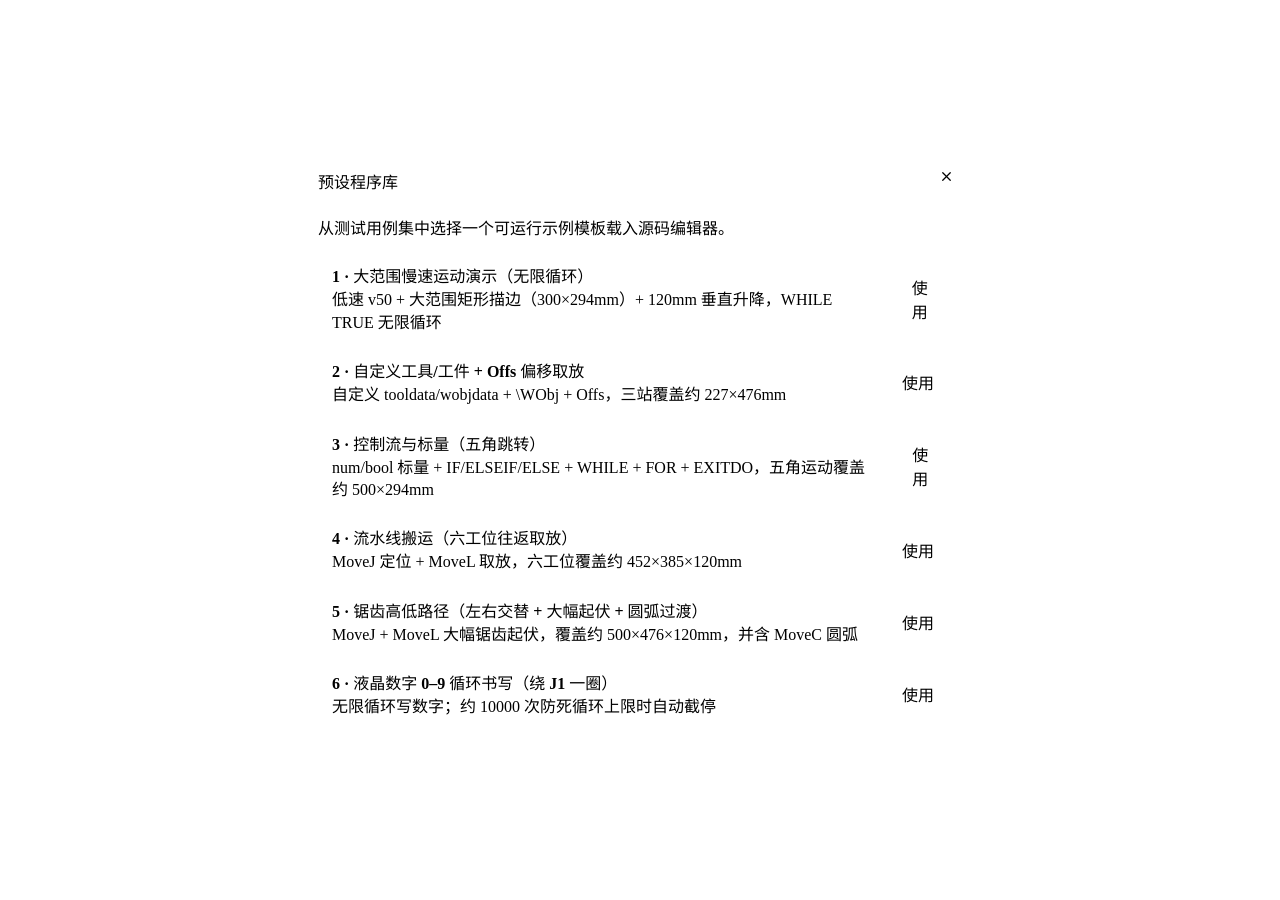
Scenario: PresetLibraryDialog 全屏预设库 › 取消确认不触发 load，库保持打开，确认框关闭
Click the button "使用" in the row of "1 · 大范围慢速运动演示（无限循环）".
click(920, 299)  # box [890, 268, 950, 330]
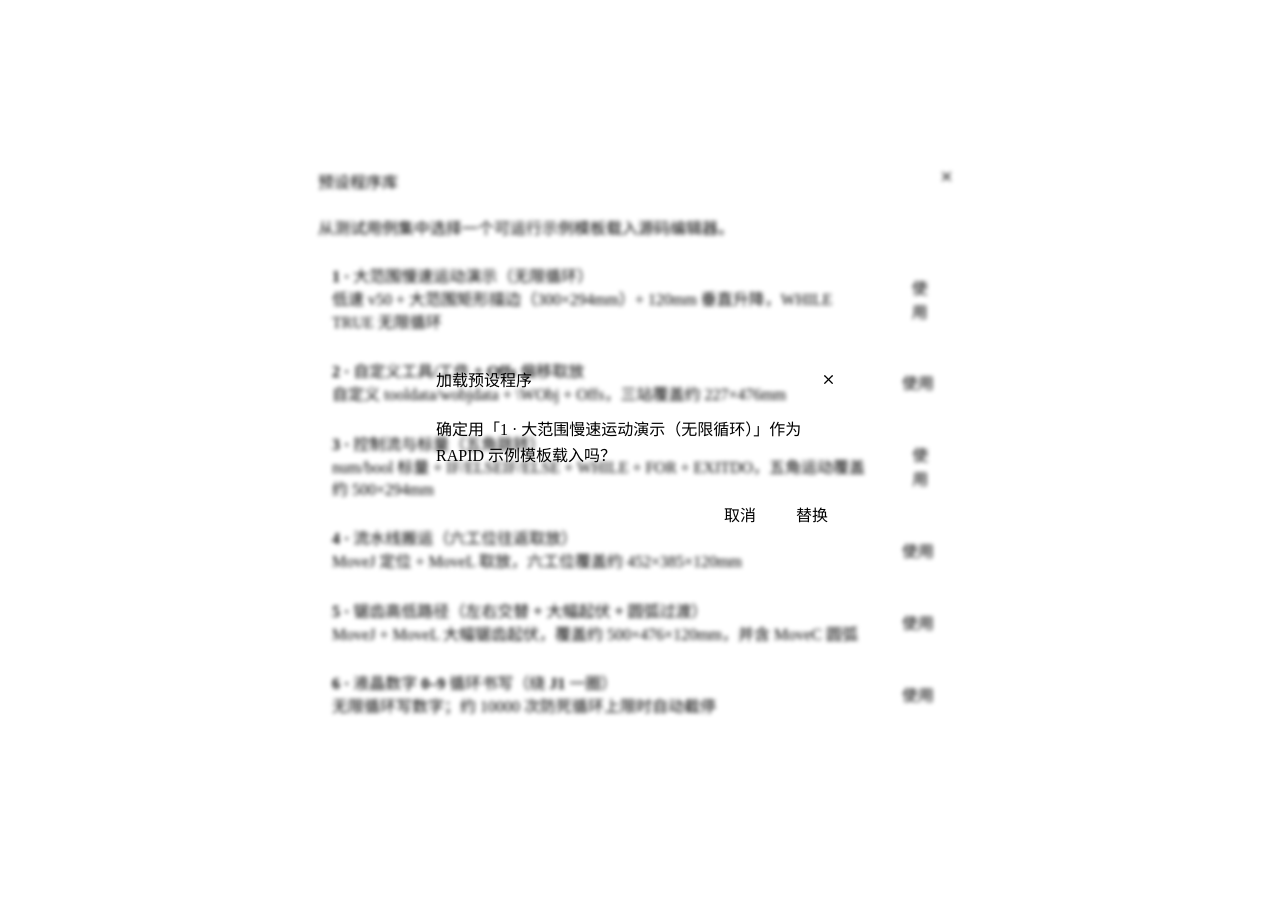
Expected: the dialog named "加载预设程序" is shown, [420, 355, 860, 545]
Expected: the button "取消" is shown
Click the button "取消".
click(740, 514)  # box [708, 495, 772, 533]
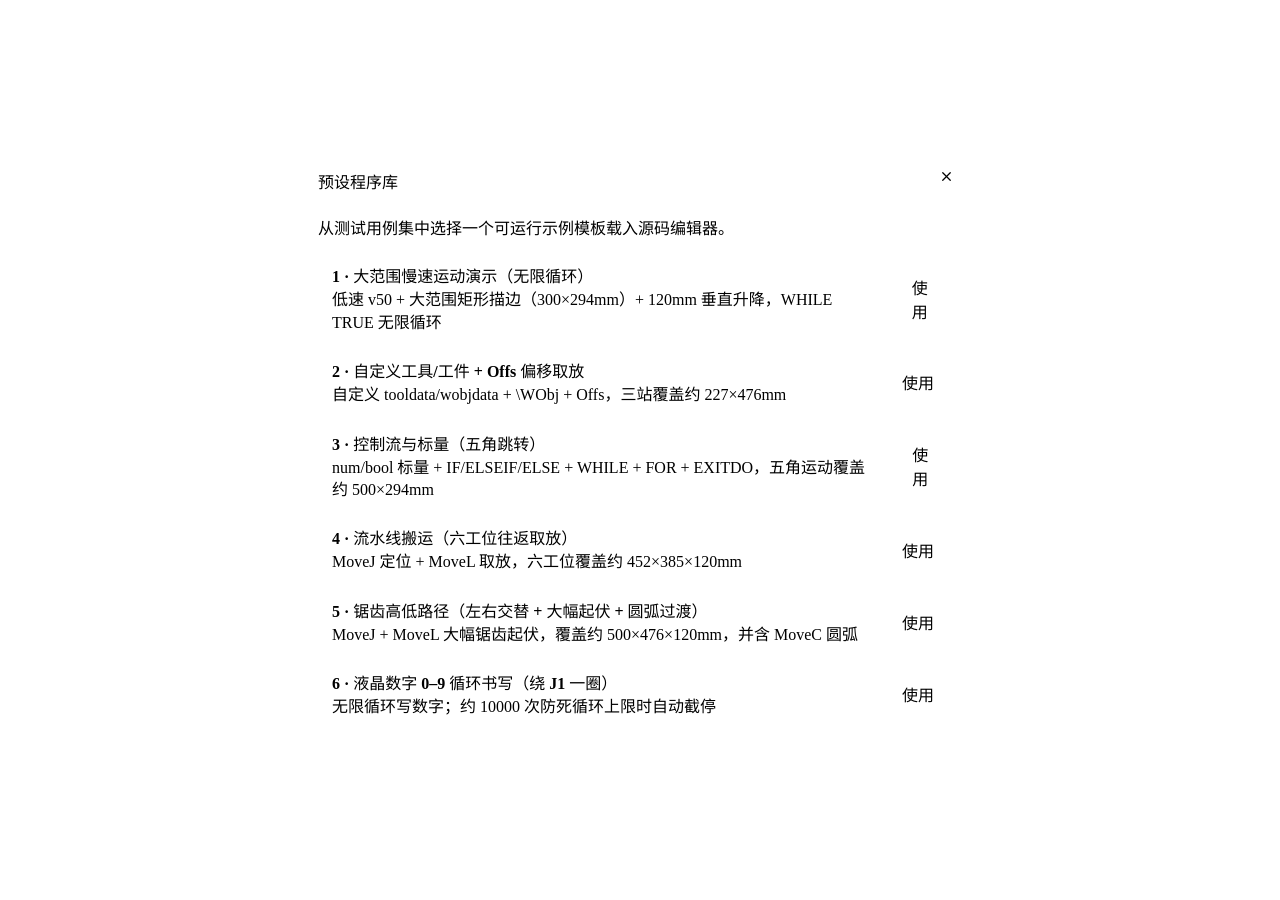
Expected: the dialog with class "lib-panel" is shown, [300, 153, 980, 746]
Expected: the dialog named "加载预设程序" is gone
